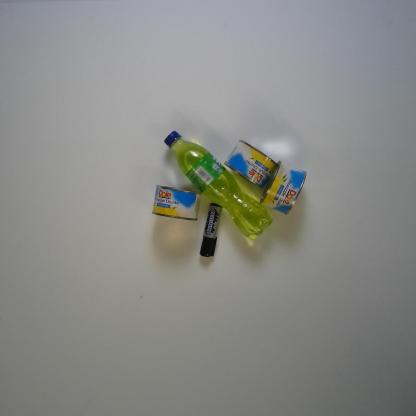Canned Food: (222, 138, 278, 190), (260, 160, 307, 216), (150, 183, 200, 223)
Drink: (164, 130, 274, 243)
Stationery: (198, 199, 224, 259)
